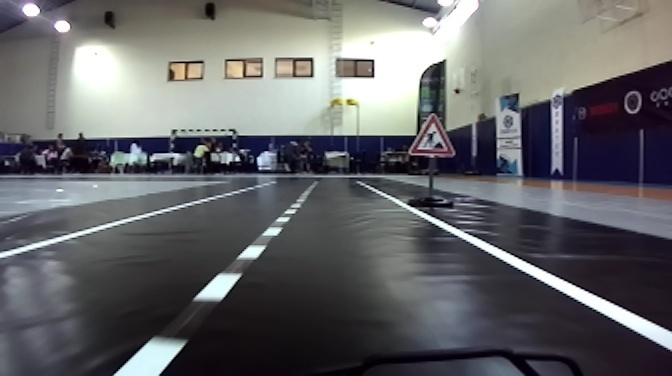yol_yapimi: (405, 109, 460, 161)
